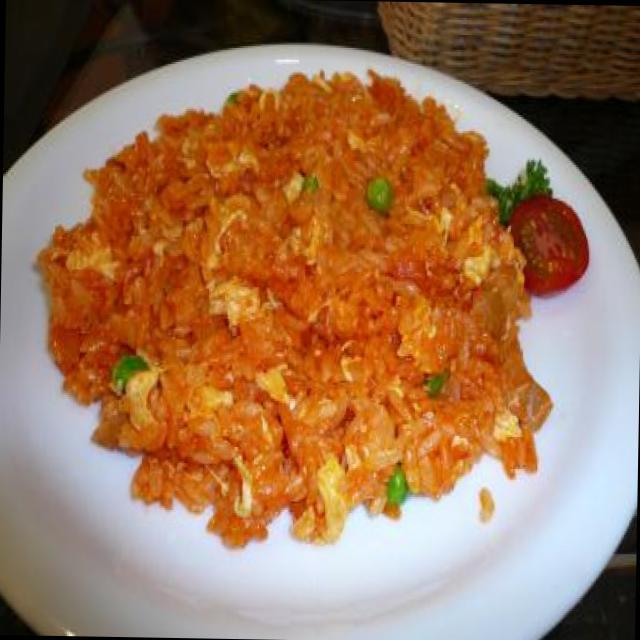Rice: (26, 51, 561, 519)
